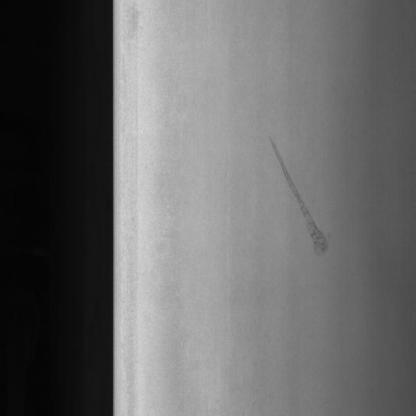water_spot: (263, 126, 344, 276)
